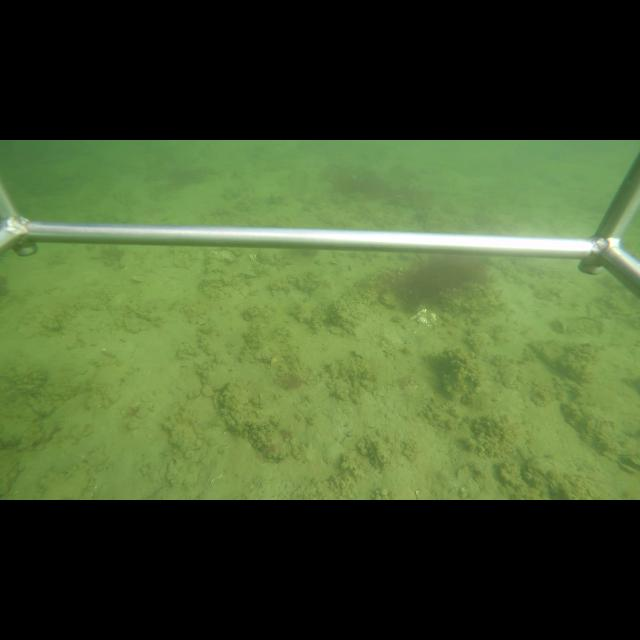Oyster-Open: (614, 452, 640, 477)
